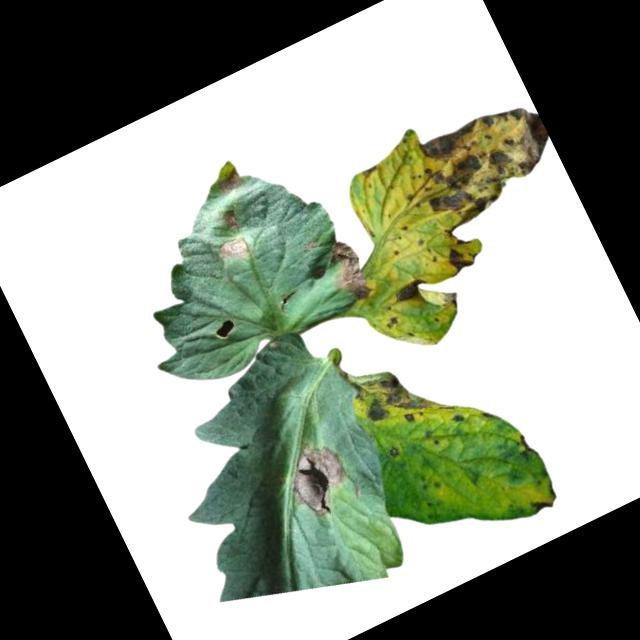Early_blight: (404, 92, 568, 237), (346, 351, 441, 444), (275, 429, 362, 525), (319, 233, 378, 308), (390, 274, 433, 310), (215, 231, 253, 267), (441, 242, 477, 276), (214, 167, 247, 199), (218, 206, 241, 231), (384, 441, 405, 465), (381, 314, 405, 335), (530, 497, 554, 516), (449, 410, 470, 430), (360, 163, 382, 180)
